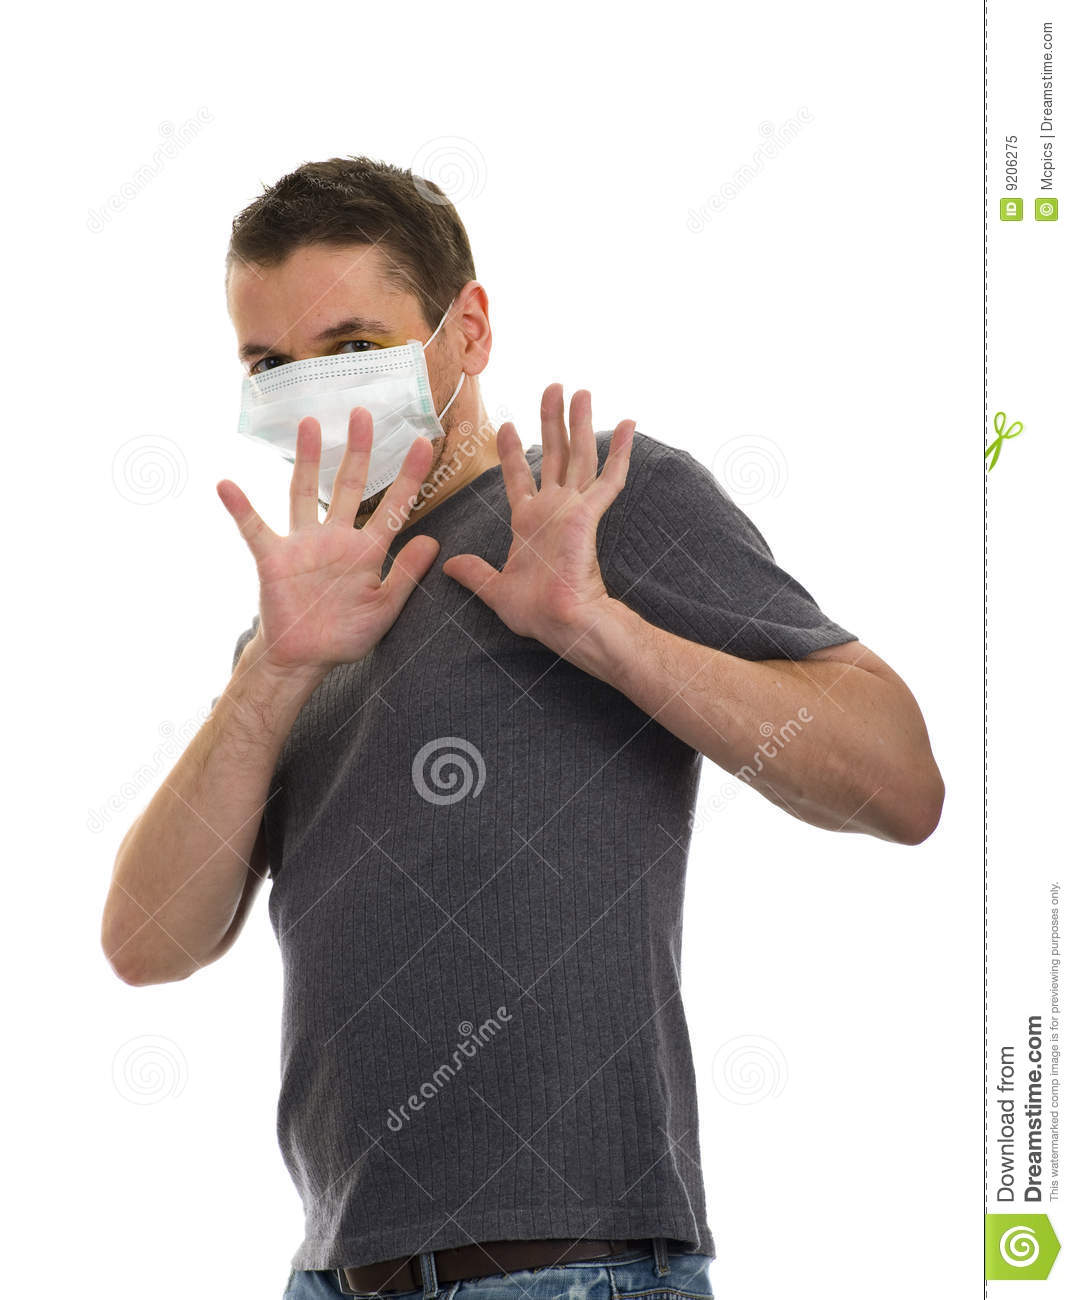mask: (227, 358, 453, 525)
